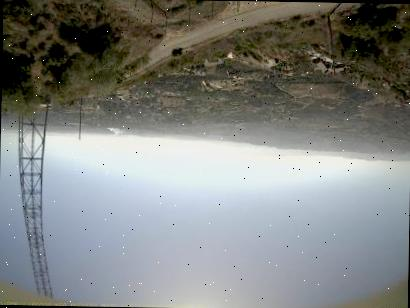smoke: (105, 128, 132, 141)
